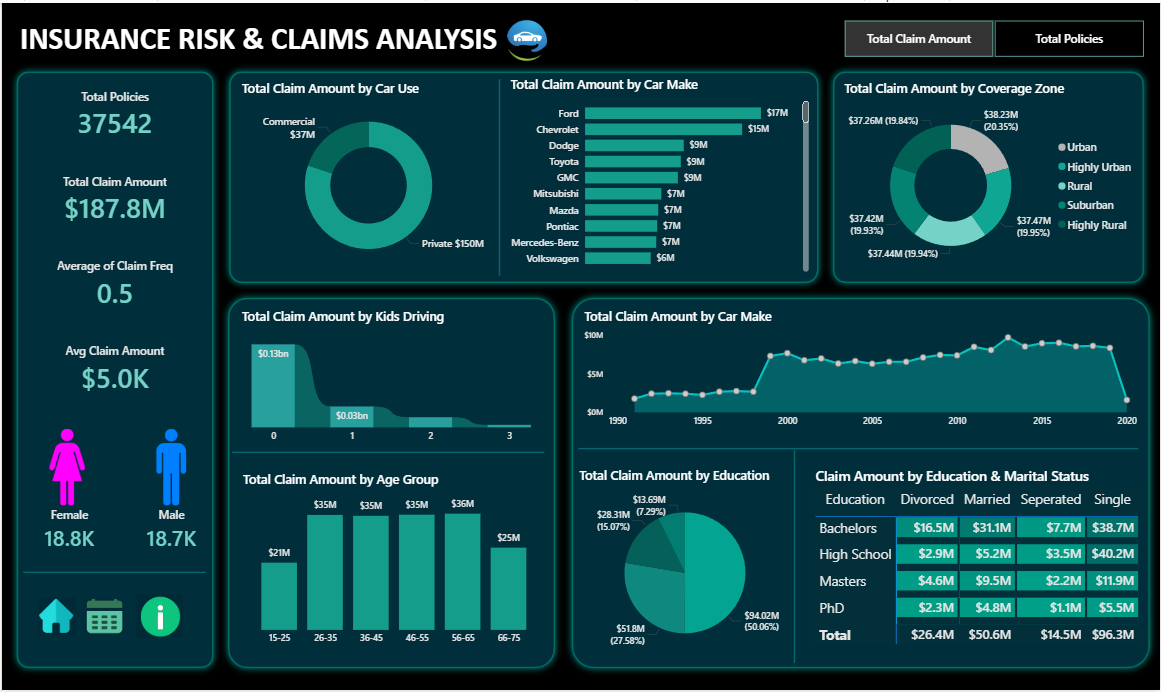

The dashboard page shown, as its layout file describes it:
{"tool":"powerbi","page":{"name":"Page 1","canvas":[1600,950],"ordinal":0},"visuals":[{"type":"textbox","box":[10.3,17.2,687.8,66.9],"z":0},{"type":"shape","box":[10.3,84,291.6,843.9],"z":1000},{"type":"shape","box":[303.6,84,833.6,312.2],"z":2000},{"type":"shape","box":[1137.2,84,449.4,312.2],"z":3000},{"type":"shape","box":[776.9,397.1,818.3,531.7],"z":4000},{"type":"shape","box":[301.9,396.2,471.7,531.7],"z":5000},{"type":"image","box":[32.6,583.2,115,115],"z":6000},{"type":"image","box":[176.7,583.2,115,115],"z":7000},{"type":"cardVisual","fields":{"Data":["insurance_data_car.Total Policies","insurance_data_car.Total Claim Amount","Avg(insurance_data_car.Claim Freq)","insurance_data_car.Avg Claim Amount"]},"box":[27.4,99.5,257.3,459.7],"z":8000},{"type":"cardVisual","fields":{"Data":["insurance_data_car.Female Count","insurance_data_car.Male Count"]},"box":[27.4,663.8,272.7,123.5],"z":9000},{"type":"donutChart","title":"Total Claim Amount by Car Use","fields":{"Y":["insurance_data_car.Total Claim Amount"],"Category":["insurance_data_car.Car Use"]},"box":[325.9,104.6,360.2,271],"z":10000},{"type":"barChart","title":"Total Claim Amount by Car Make","fields":{"Y":["insurance_data_car.Total Claim Amount"],"Category":["insurance_data_car.Car Make"]},"box":[698.1,99.5,422,276.2],"z":11000},{"type":"donutChart","title":"Total Claim Amount by Coverage Zone","fields":{"Y":["insurance_data_car.Total Claim Amount"],"Category":["insurance_data_car.Coverage Zone"]},"box":[1157.8,104.6,415.1,271],"z":12000},{"type":"ribbonChart","title":"Total Claim Amount by Kids Driving","fields":{"Y":["insurance_data_car.Total Claim Amount"],"Category":["insurance_data_car.Kids Driving"]},"box":[326.3,421.2,423,195.1],"z":13000},{"type":"columnChart","title":"Total Claim Amount by Age Group","fields":{"Y":["insurance_data_car.Total Claim Amount"],"Category":["insurance_data_car.Age Group"]},"box":[328,645.7,428.1,250.3],"z":14000},{"type":"areaChart","title":"Total Claim Amount by Car Make","fields":{"Y":["insurance_data_car.Total Claim Amount"],"Category":["insurance_data_car.Car Year"]},"box":[799.3,421.2,773.4,174.4],"z":15000},{"type":"pieChart","title":"Total Claim Amount by Education","fields":{"Y":["insurance_data_car.Total Claim Amount"],"Category":["insurance_data_car.Education"]},"box":[792.4,640.5,302.1,271],"z":16000},{"type":"pivotTable","title":"Claim Amount by Education & Marital Status","fields":{"Rows":["insurance_data_car.Education"],"Columns":["insurance_data_car.Marital Status"],"Values":["insurance_data_car.Total Claim Amount"]},"box":[1118.7,640.5,459.2,271],"z":17000},{"type":"slicer","fields":{"Values":["Select Measure.Select Measure"]},"box":[1137.2,17.2,463.1,63.5],"z":18000},{"type":"shape","box":[662.9,105.3,48.3,271],"z":18001},{"type":"shape","box":[1070.4,618,48.3,293.5],"z":18002},{"type":"shape","box":[795.9,590.4,773.4,50.1],"z":18003},{"type":"shape","box":[317.7,595.6,431.6,50.1],"z":18004},{"type":"image","box":[676.7,19,96.7,65.6],"z":18005},{"type":"image","box":[44.9,811.4,62.1,70.8],"z":18006},{"type":"image","box":[107,818.3,69.1,58.7],"z":18007},{"type":"image","box":[176.1,811.4,82.9,70.8],"z":18008},{"type":"shape","box":[29.3,761.3,252.1,50.1],"z":18009}]}

Visuals, with their boxes in screenshot pixels (x1, y1, x2, y2), scaled from the page's 1600x950 canvas onto the 1161x692 screenshot:
textbox: l=7, t=13, r=507, b=61
shape: l=7, t=61, r=219, b=676
shape: l=220, t=61, r=825, b=289
shape: l=825, t=61, r=1151, b=289
shape: l=564, t=289, r=1158, b=677
shape: l=219, t=289, r=561, b=676
image: l=24, t=425, r=107, b=509
image: l=128, t=425, r=212, b=509
cardVisual - insurance_data_car.Total Policies x insurance_data_car.Total Claim Amount: l=20, t=72, r=207, b=407
cardVisual - insurance_data_car.Female Count x insurance_data_car.Male Count: l=20, t=484, r=218, b=573
"Total Claim Amount by Car Use" donutChart: l=236, t=76, r=498, b=274
"Total Claim Amount by Car Make" barChart: l=507, t=72, r=813, b=274
"Total Claim Amount by Coverage Zone" donutChart: l=840, t=76, r=1141, b=274
"Total Claim Amount by Kids Driving" ribbonChart: l=237, t=307, r=544, b=449
"Total Claim Amount by Age Group" columnChart: l=238, t=470, r=549, b=653
"Total Claim Amount by Car Make" areaChart: l=580, t=307, r=1141, b=434
"Total Claim Amount by Education" pieChart: l=575, t=467, r=794, b=664
"Claim Amount by Education & Marital Status" pivotTable: l=812, t=467, r=1145, b=664
slicer - Select Measure.Select Measure: l=825, t=13, r=1160, b=59
shape: l=481, t=77, r=516, b=274
shape: l=777, t=450, r=812, b=664
shape: l=578, t=430, r=1139, b=467
shape: l=231, t=434, r=544, b=470
image: l=491, t=14, r=561, b=62
image: l=33, t=591, r=78, b=643
image: l=78, t=596, r=128, b=639
image: l=128, t=591, r=188, b=643
shape: l=21, t=555, r=204, b=591
